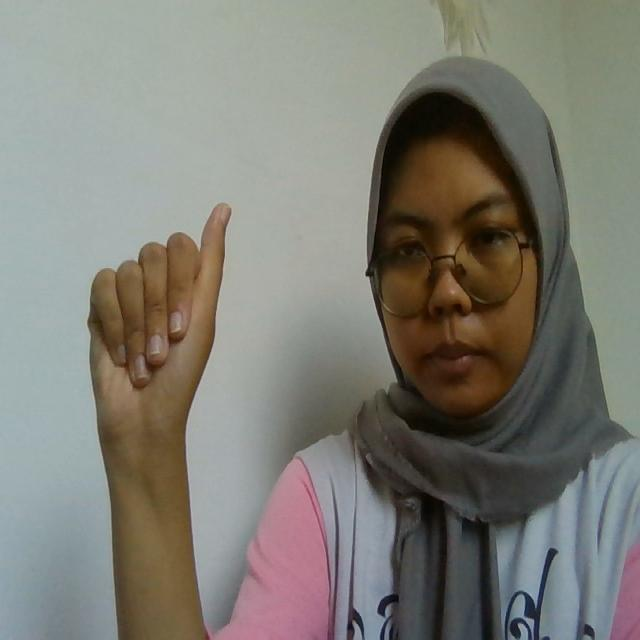A: (87, 201, 234, 428)
